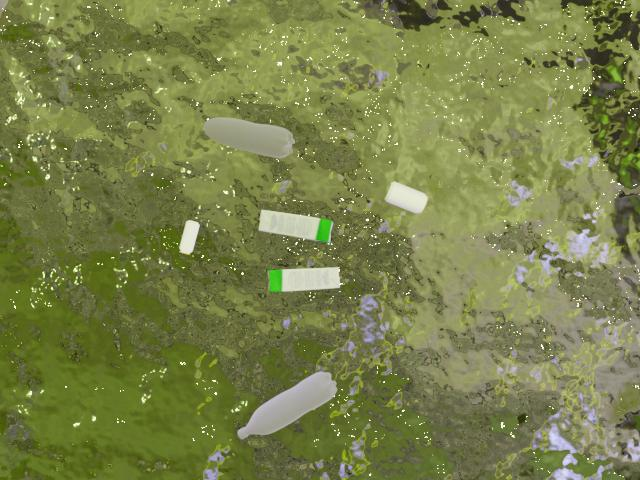Metal: (374, 172, 434, 222), (168, 211, 210, 269)
Plastic: (237, 365, 350, 450), (198, 108, 310, 165)
Trash: (245, 201, 348, 255), (262, 256, 356, 299)
